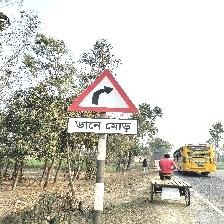Right-turn: (67, 68, 140, 136)
